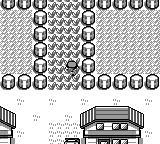captura: (47, 0, 80, 90)
leer: (64, 138, 80, 144)
main: (65, 61, 79, 74)
no-caminable: (81, 0, 159, 89), (0, 0, 46, 89), (80, 105, 143, 143), (0, 106, 15, 143)
puerta: (98, 139, 110, 144)
